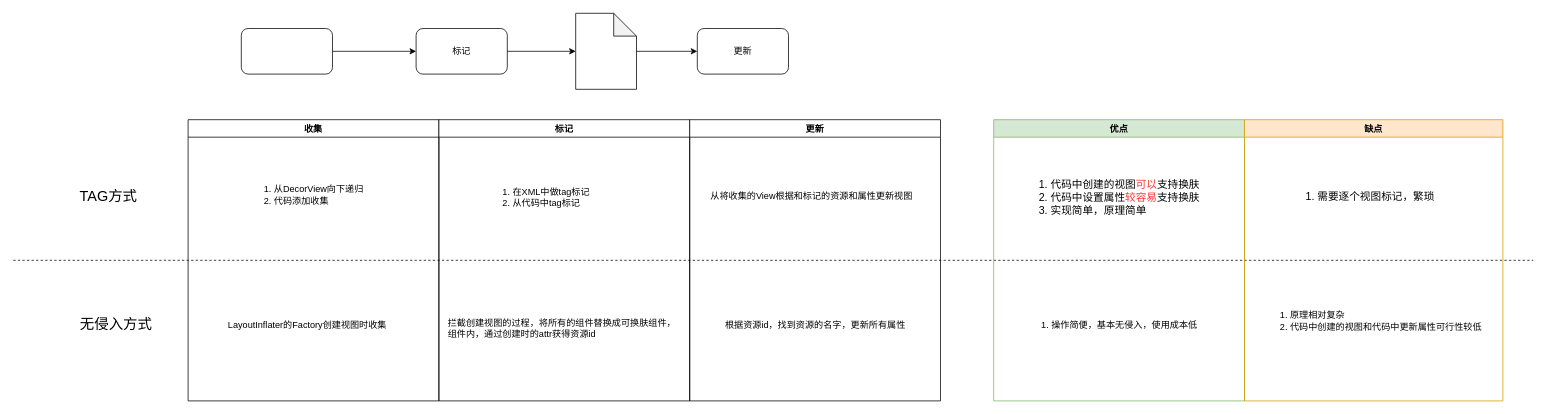
This 1547x414 diagram has some shape labels left out. Each missing label, with the centre of its shape:
"1.属性 2.资源" belongs at [605,51].
"收集View" belongs at [286,51].
